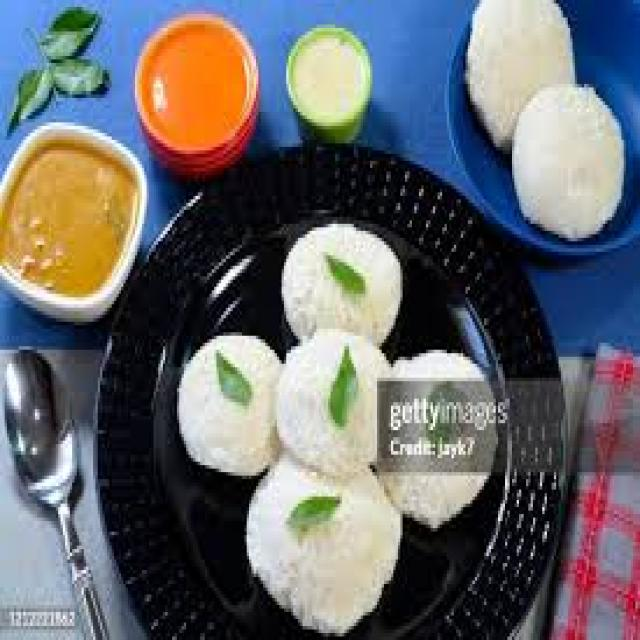IDLI: (249, 458, 400, 633), (275, 329, 391, 476), (512, 87, 619, 238), (468, 0, 575, 150), (177, 336, 279, 476), (282, 224, 400, 343)
